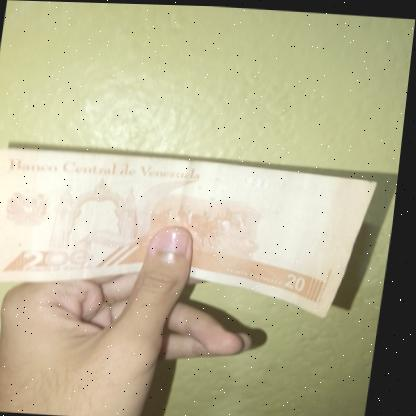twenty-back-vef: (0, 147, 384, 318)
